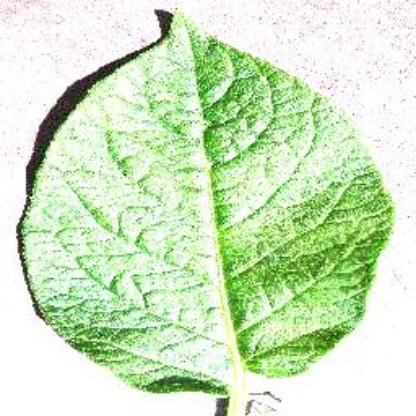Healthy-plant: (21, 11, 406, 401)
